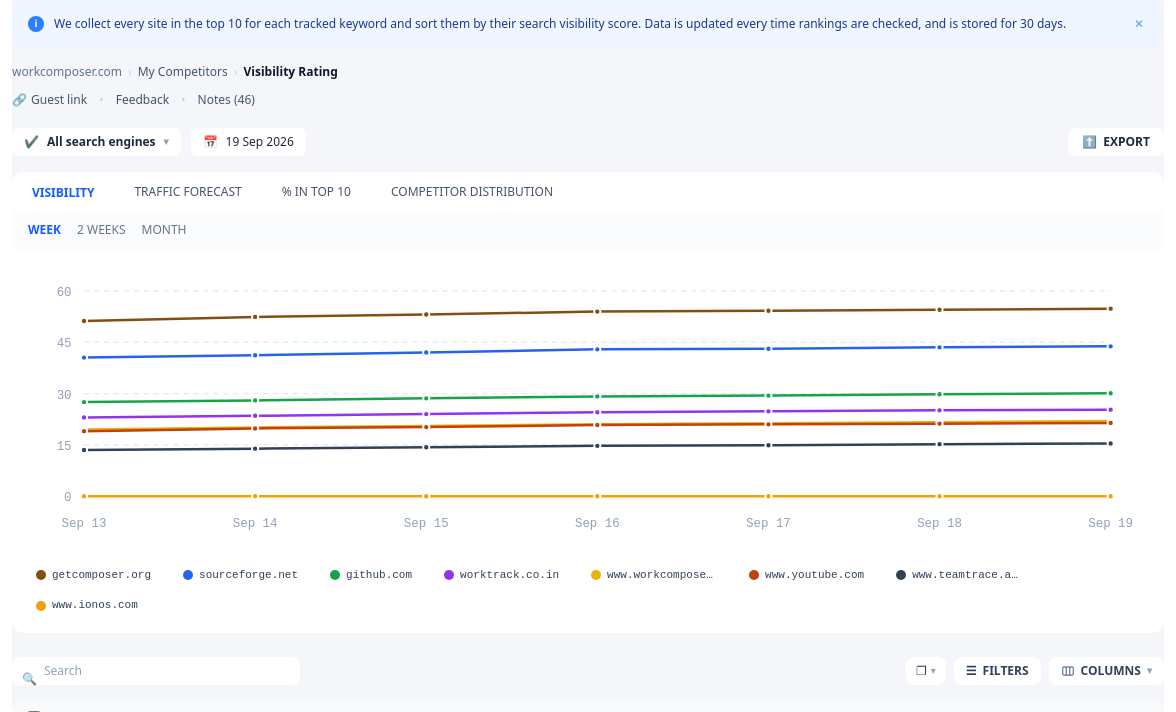
it: VisibilityRatingView Component › switches search engine via dropdown
Click the button with aria-label "Select search engine".
click(96, 142)  # box [12,128,181,156]
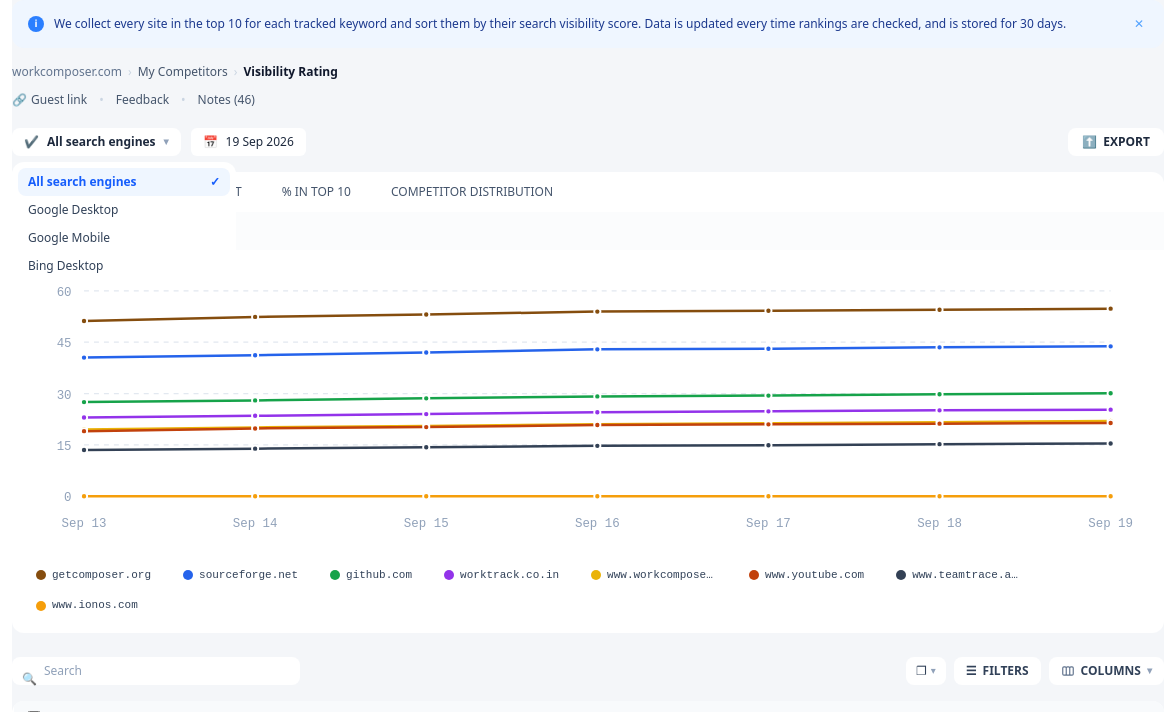
Click the button "Google Desktop".
click(124, 210)  # box [18,196,230,224]
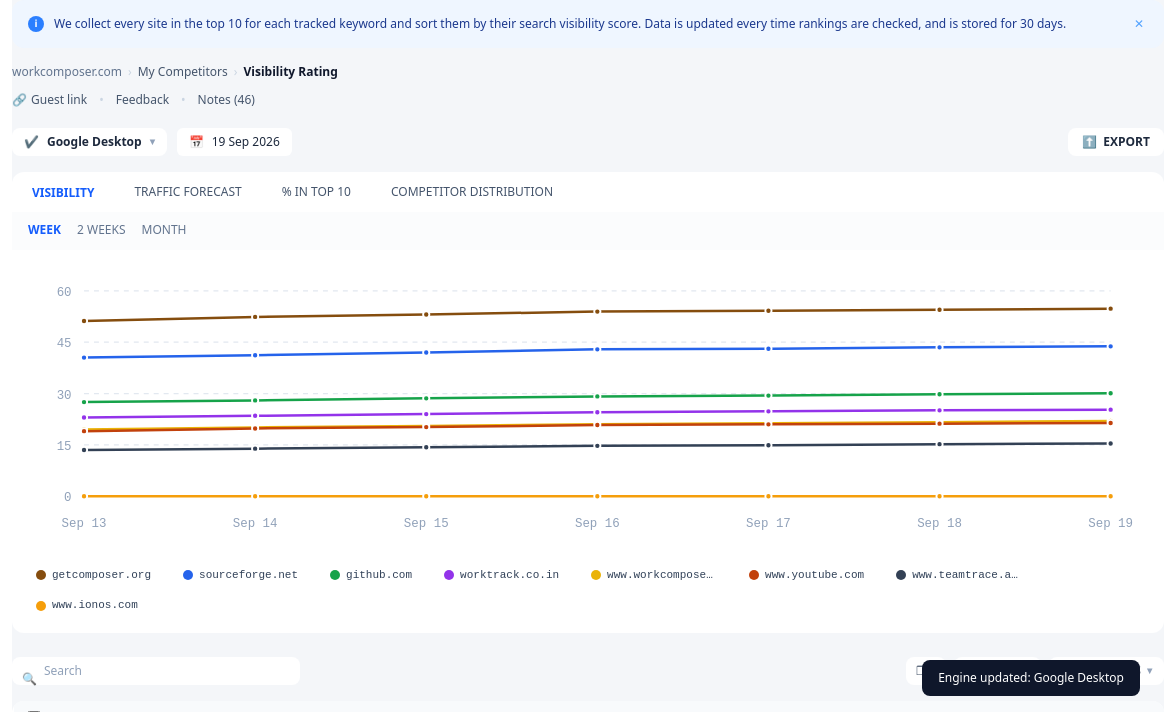
Expected: the text "Google Desktop" is shown, [47,134,142,150]
Expected: the text "Engine updated: Google Desktop" is shown, [922,660,1140,696]
